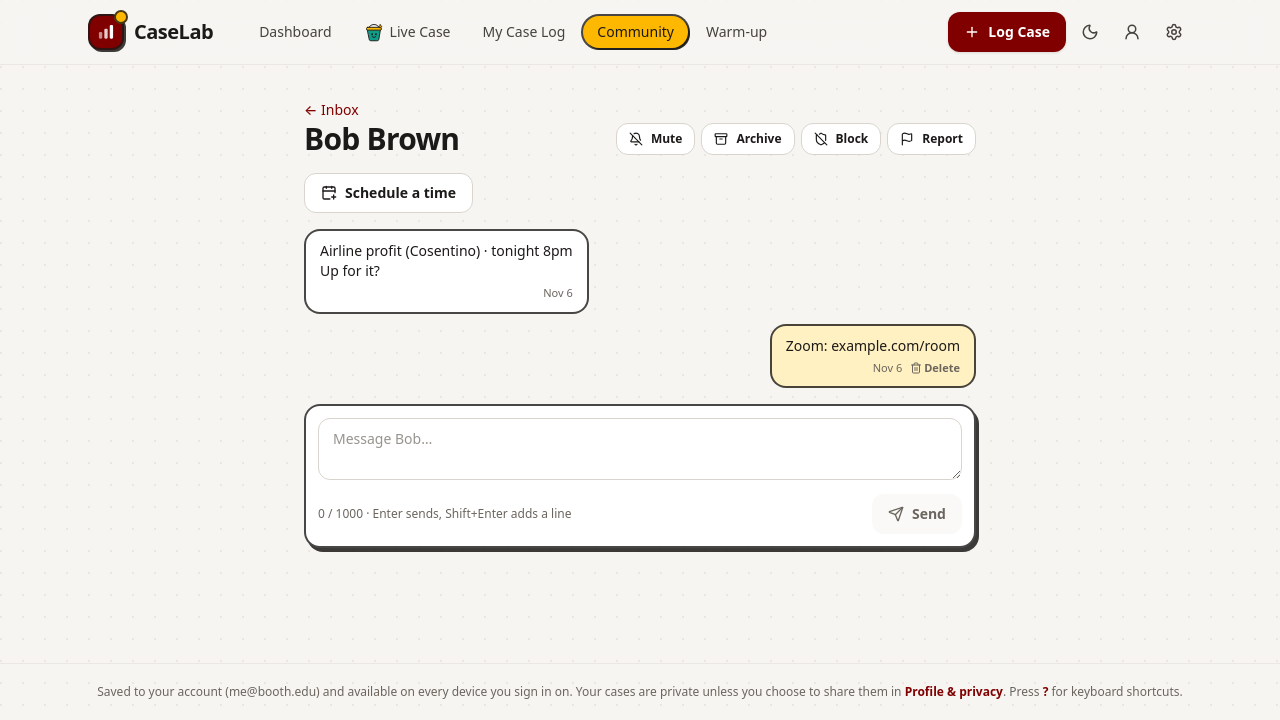
it: talking › keeps what you typed and says why when it can't be sent
Check: the heading "Bob Brown" is shown, box [304,121,459,157]
In the text box labelled "Message": (640, 449) [318,418,962,480], type "Hello?"
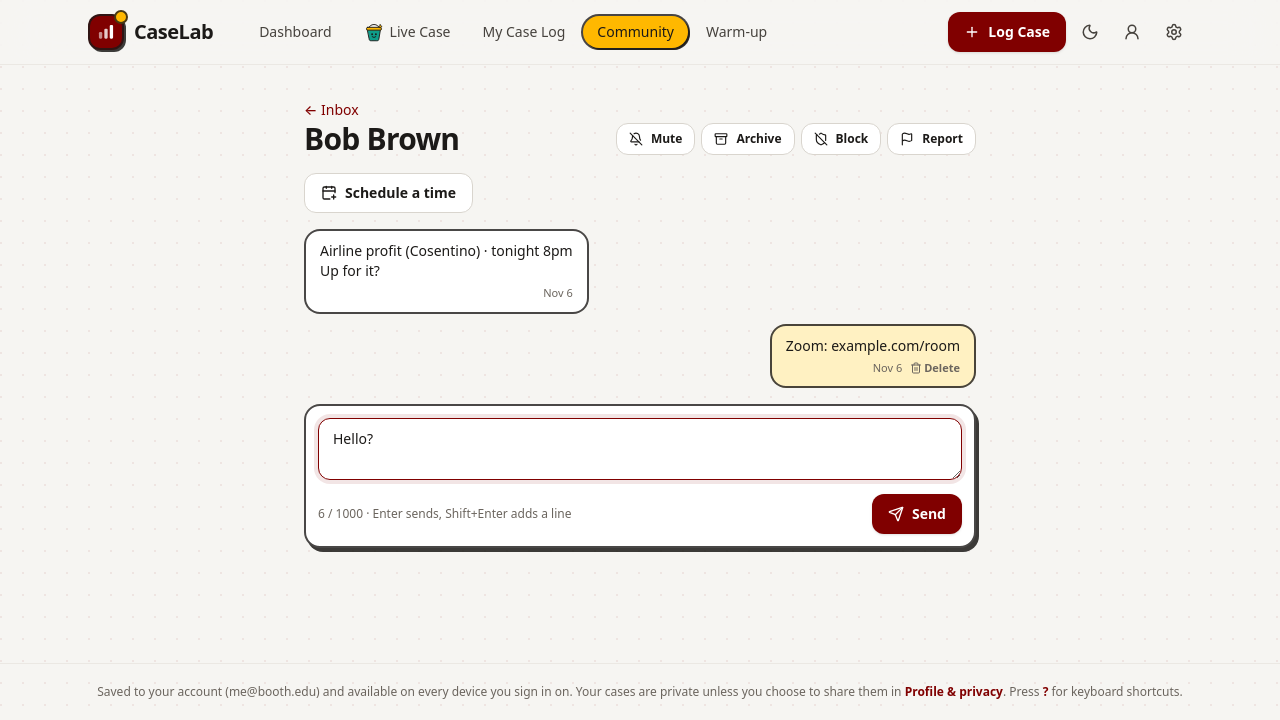
Click the button "Send": click(917, 514) [872,494,962,534]
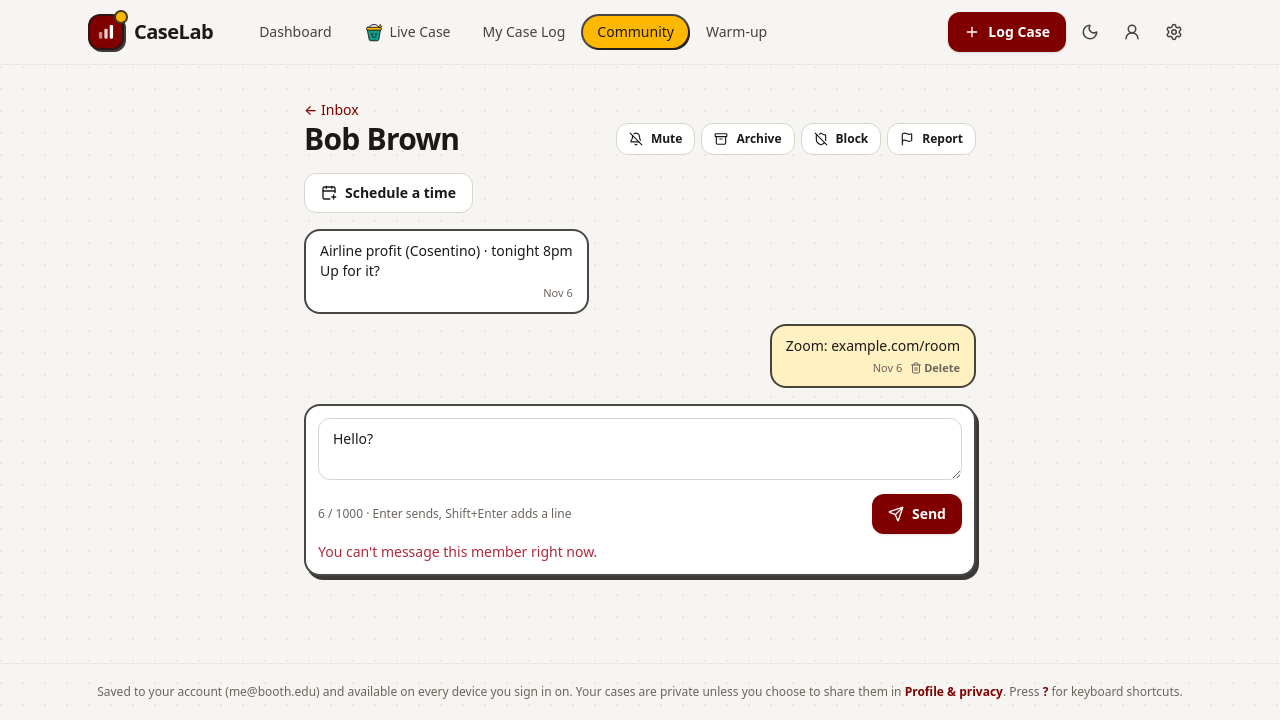
Check: the message reads "You can't message this member right now.", box [318,542,597,561]
